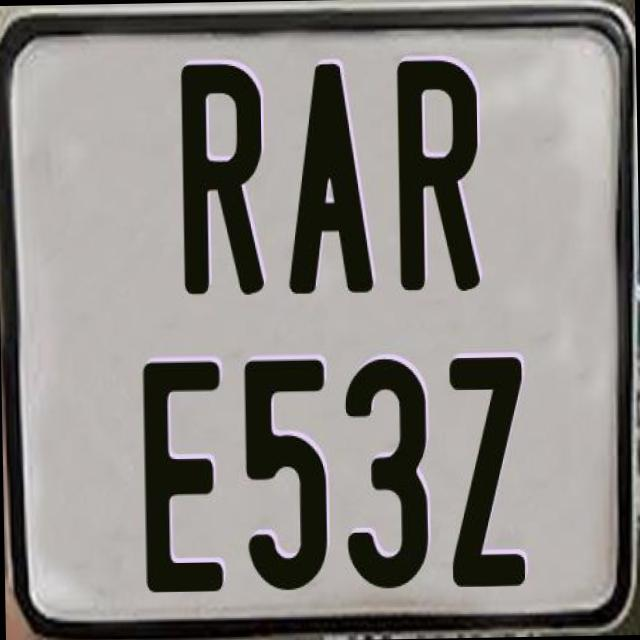3: (340, 357, 432, 588)
5: (243, 356, 327, 596)
A: (282, 63, 370, 303)
E: (138, 360, 225, 592)
R: (181, 60, 269, 300), (394, 60, 482, 292)
Z: (448, 356, 530, 586)
